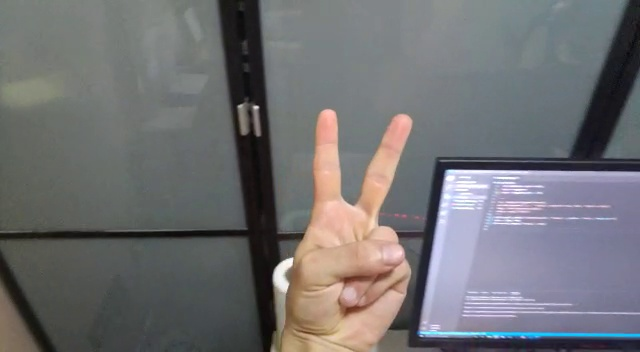Peace: (276, 108, 425, 350)
